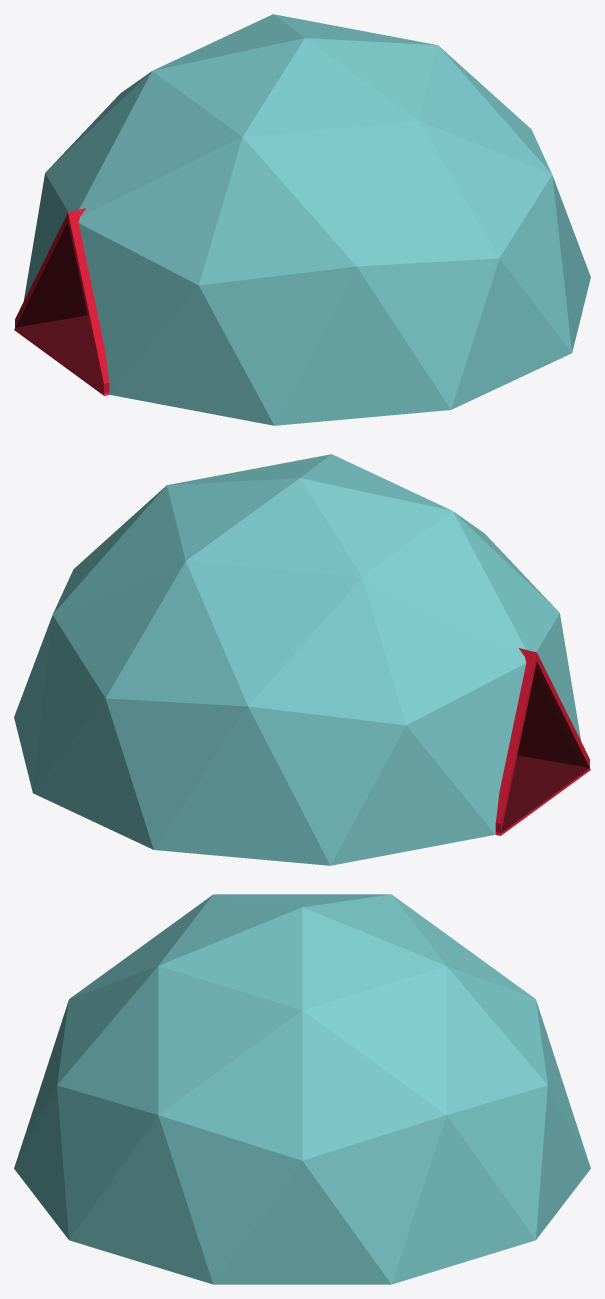
The model's file is house.fbx.
3 views of the same model, one above another, from view 1: azimuth 30°, elevation 25°; view 2: azimuth 150°, elevation 25°; view 3: azimuth 270°, elevation 25° (orthographic).
Parts seen in each view (by area): view 1: house; view 2: house; view 3: house.
Boxes of the visible parts, x1,y1,x2,y2 form: house: (14,14,590,425); house: (14,454,590,865); house: (14,894,590,1284).
Size of the model in its own units: 28.37 by 14.76 by 29.51.
